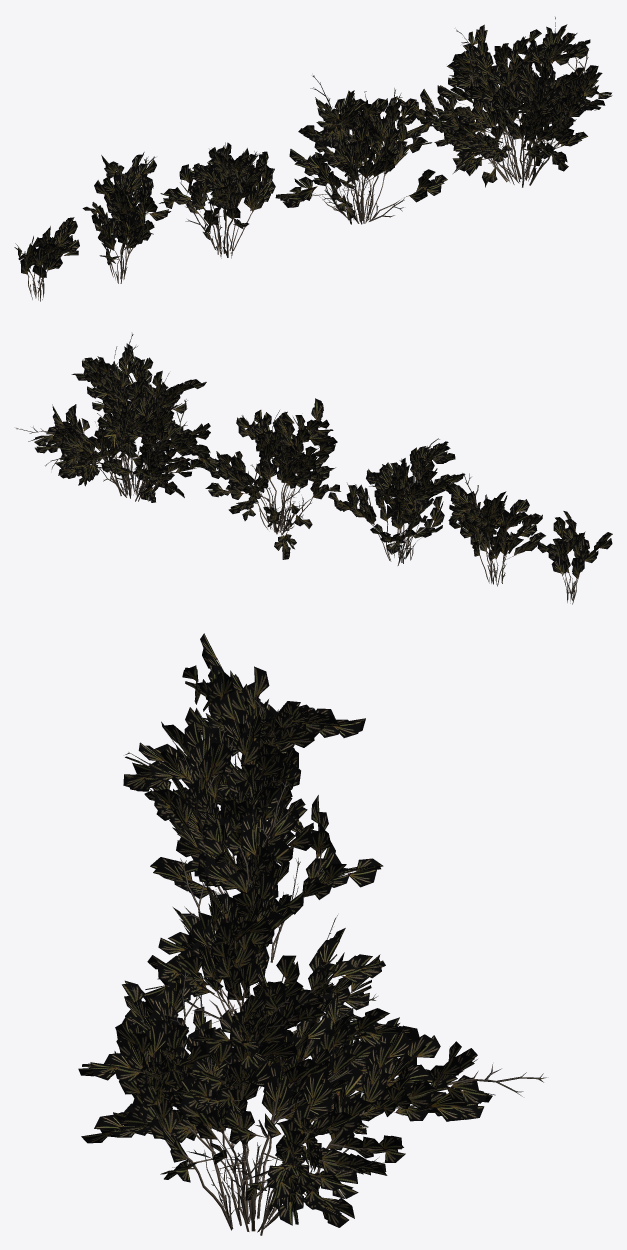
The model's file is rooibos.glb.
The picture shows the model from 3 angles, top to bottom: view 1: azimuth 30°, elevation 25°; view 2: azimuth 150°, elevation 25°; view 3: azimuth 270°, elevation 25°; orthographic projection. The views are drawn at different scales.
Visible parts, largest first — view 1: wild_rooibos_bush_a, wild_rooibos_bush_b, wild_rooibos_bush_c, wild_rooibos_bush_d, wild_rooibos_bush_e; view 2: wild_rooibos_bush_a, wild_rooibos_bush_b, wild_rooibos_bush_c, wild_rooibos_bush_d, wild_rooibos_bush_e; view 3: wild_rooibos_bush_a, wild_rooibos_bush_b, wild_rooibos_bush_c, wild_rooibos_bush_d, wild_rooibos_bush_e.
Boxes of the visible parts, left/top/right/bottom form: wild_rooibos_bush_a: left=397, top=17, right=612, bottom=187; wild_rooibos_bush_b: left=275, top=75, right=447, bottom=224; wild_rooibos_bush_c: left=159, top=142, right=275, bottom=258; wild_rooibos_bush_d: left=82, top=152, right=170, bottom=283; wild_rooibos_bush_e: left=14, top=217, right=79, bottom=301; wild_rooibos_bush_a: left=16, top=333, right=218, bottom=502; wild_rooibos_bush_b: left=205, top=398, right=340, bottom=559; wild_rooibos_bush_c: left=328, top=438, right=465, bottom=565; wild_rooibos_bush_d: left=445, top=473, right=545, bottom=586; wild_rooibos_bush_e: left=537, top=511, right=612, bottom=604; wild_rooibos_bush_a: left=78, top=963, right=546, bottom=1235; wild_rooibos_bush_b: left=143, top=779, right=385, bottom=1090; wild_rooibos_bush_c: left=123, top=720, right=383, bottom=962; wild_rooibos_bush_d: left=161, top=666, right=365, bottom=863; wild_rooibos_bush_e: left=182, top=633, right=265, bottom=770.
Size of the model in its own units: 2.28 by 0.5374 by 0.8376.
2 materials, 2 textured.
